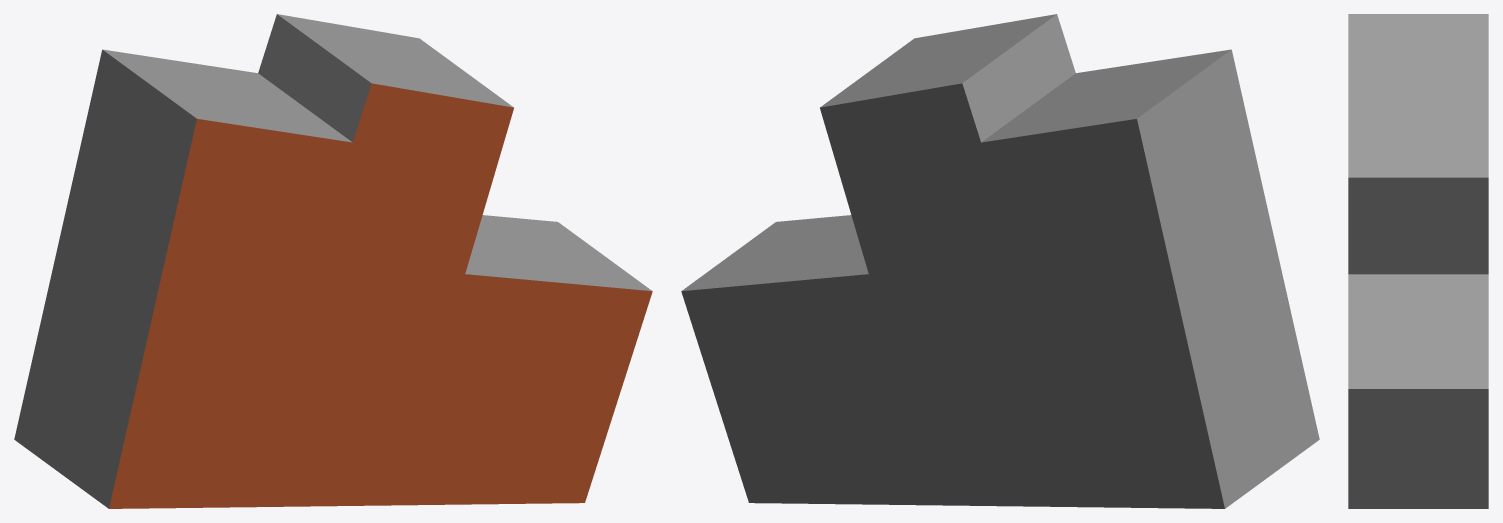
The model's file is construction_1635_assumed_A_Casa_h6m.obj.
3 views of the same model, side by side, from view 1: azimuth 30°, elevation 25°; view 2: azimuth 150°, elevation 25°; view 3: azimuth 270°, elevation 25° (orthographic). The views are drawn at different scales.
Visible parts, largest first — view 1: construction_1635_assumed_A_Casa; view 2: construction_1635_assumed_A_Casa; view 3: construction_1635_assumed_A_Casa.
Boxes of the visible parts, <box> form: construction_1635_assumed_A_Casa: <box>14,14,652,508</box>; construction_1635_assumed_A_Casa: <box>681,14,1319,508</box>; construction_1635_assumed_A_Casa: <box>1348,14,1488,508</box>.
Bounding box in the file's own units: 19.89 × 16.74 × 6.
